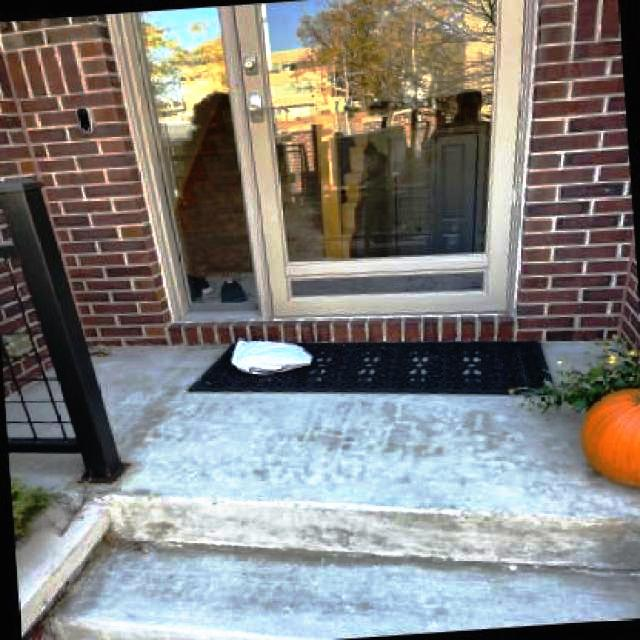Box: (230, 334, 313, 377)
